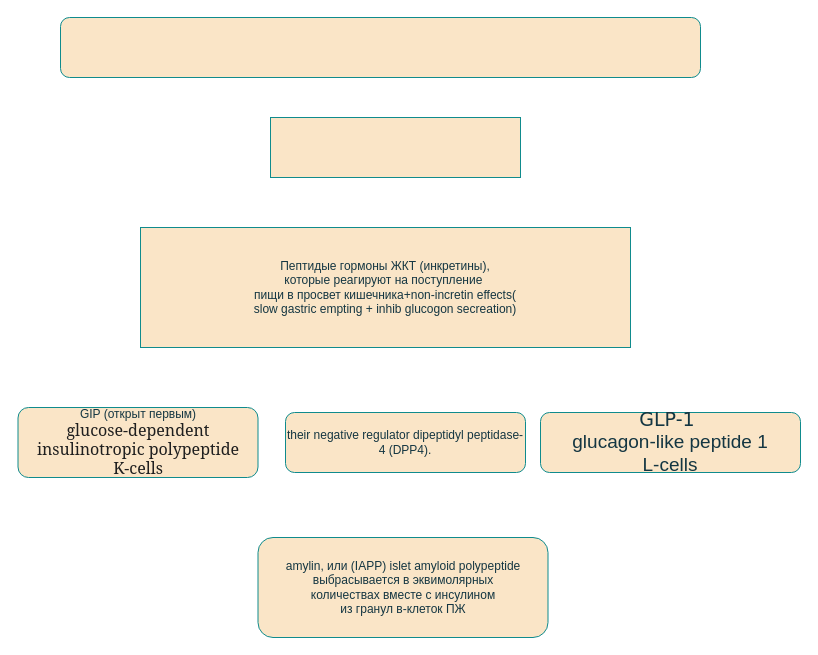
This 818x655 diagram has some shape labels left out. Each missing label, with the box of its shape:
GLUCOSE: (270, 116, 520, 178)
регуляторы ситеза и секреции инсулина: (60, 16, 700, 78)
